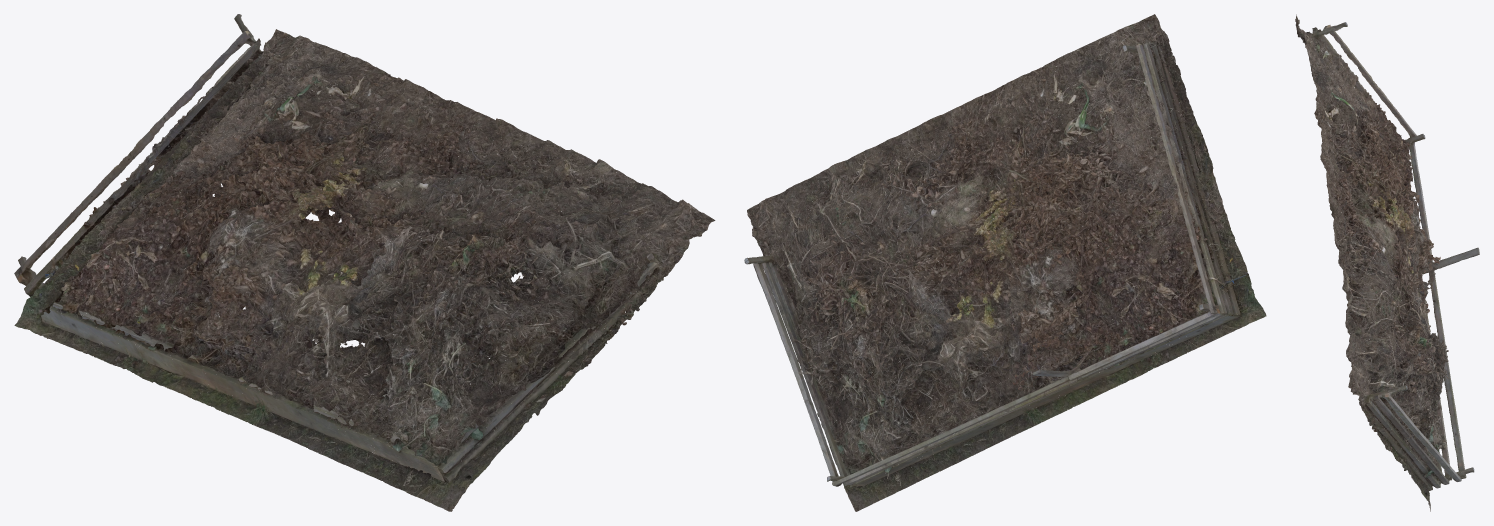
Rendered from dirt_patch.glb.
3 views of the same model, side by side, from view 1: azimuth 30°, elevation 25°; view 2: azimuth 150°, elevation 25°; view 3: azimuth 270°, elevation 25° (orthographic). The views are drawn at different scales.
Visible parts, largest first — view 1: Model_material0_0, Model_material2_0, Model_material3_0, Model_material1_0; view 2: Model_material0_0, Model_material2_0, Model_material3_0, Model_material1_0; view 3: Model_material2_0, Model_material3_0, Model_material1_0, Model_material0_0.
Part boxes in pixels (x1,y1,x2,y2): Model_material0_0: (14, 30, 681, 511); Model_material2_0: (14, 14, 715, 480); Model_material3_0: (18, 15, 660, 465); Model_material1_0: (20, 29, 665, 468); Model_material0_0: (752, 26, 1266, 511); Model_material2_0: (744, 15, 1256, 486); Model_material3_0: (747, 22, 1260, 480); Model_material1_0: (744, 14, 1241, 479); Model_material2_0: (1295, 17, 1479, 483); Model_material3_0: (1297, 20, 1479, 486); Model_material1_0: (1296, 14, 1474, 481); Model_material0_0: (1295, 24, 1474, 511).
Size of the model in its own units: 47.16 by 41.41 by 16.93.
4 materials, 4 textured.
